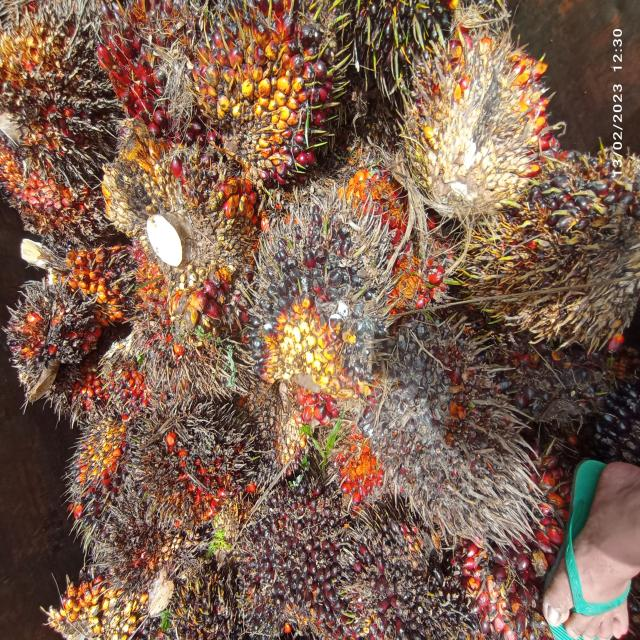fraksi 00: (482, 145, 640, 365), (243, 196, 369, 418)
fraksi 1: (144, 0, 370, 197), (381, 306, 533, 589)
fraksi 4: (0, 0, 129, 227), (118, 391, 243, 536), (0, 283, 130, 414), (23, 222, 144, 330)
